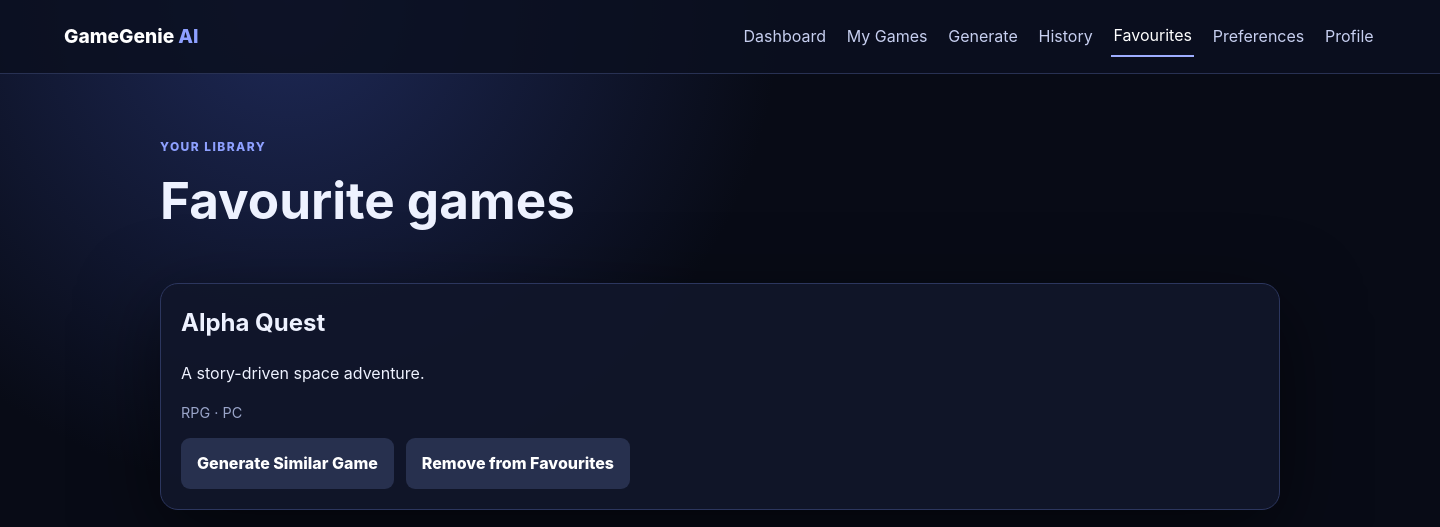
it: user activity UI › renders favourites and removes one optimistically
What coordinates should you click on to do the following:
click the button with aria-label "Remove Alpha Quest from favourites"
I would click on:
 (518, 463)
Its box is [406, 438, 630, 489].
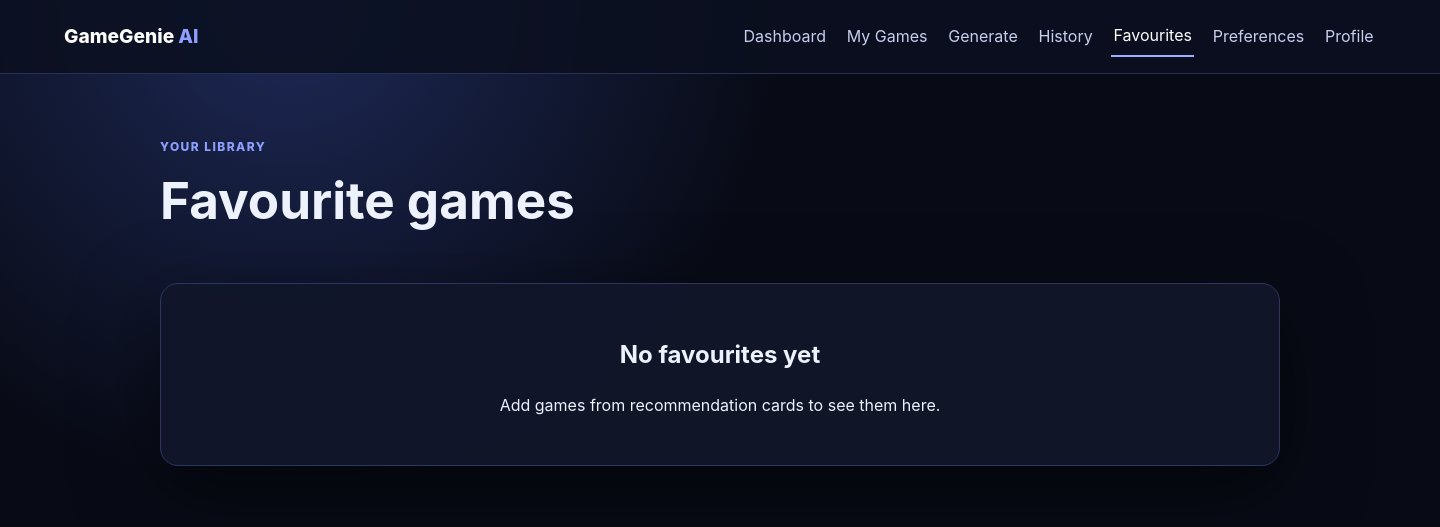
Check: the heading "Alpha Quest" is gone
